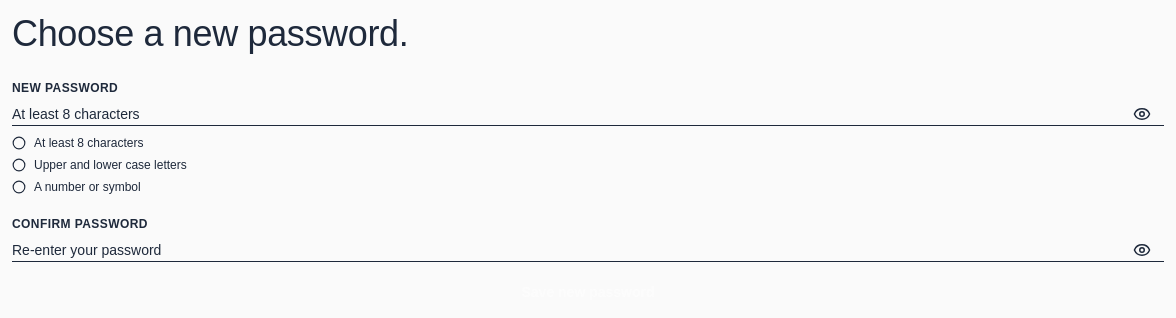
Test: reset password — session validation › will not submit a mismatched confirmation
Type "Abcdefg1!" into the password field labelled "New password". click: (588, 114)
box: left=12, top=103, right=1164, bottom=126
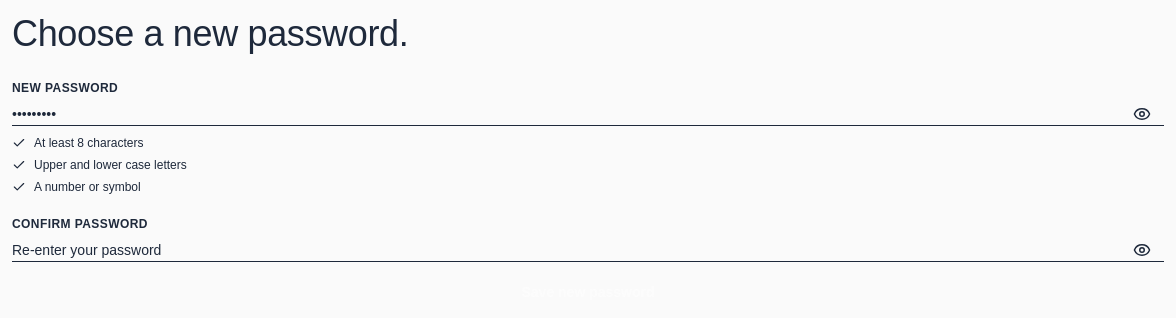
Type "Abcdefg2!" into the password field labelled "Confirm password". click: (588, 250)
box: left=12, top=239, right=1164, bottom=262
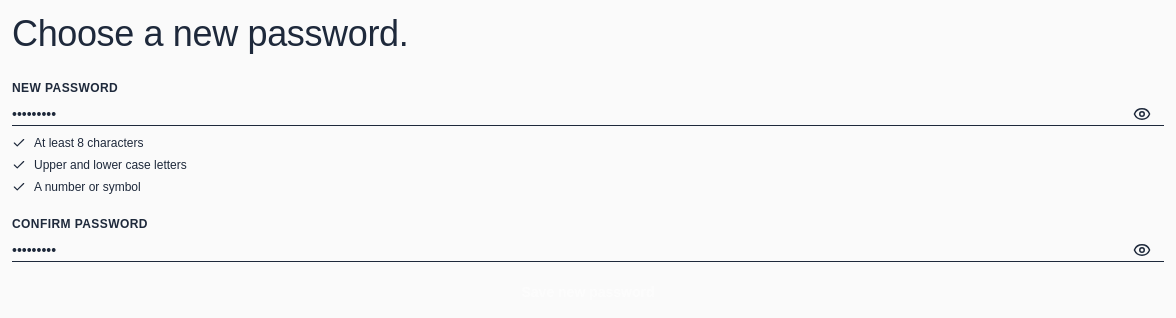
Leave the password field labelled "Confirm password", box left=12, top=239, right=1164, bottom=262
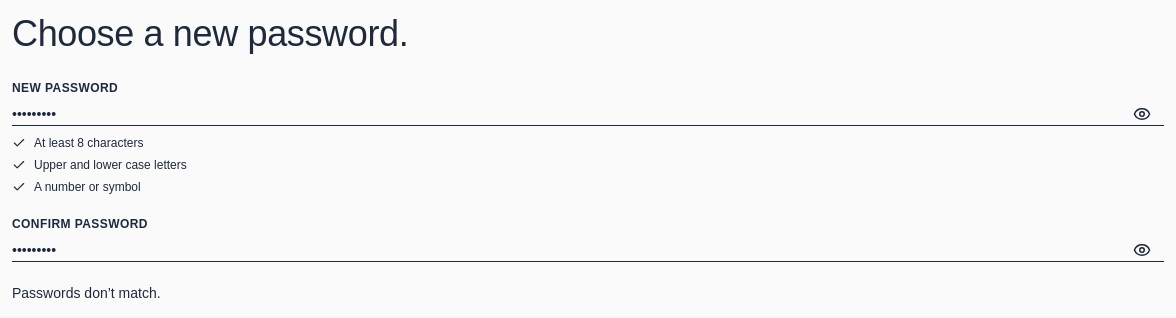
Result: the message shows "don’t match" at left=12, top=285, right=161, bottom=301
